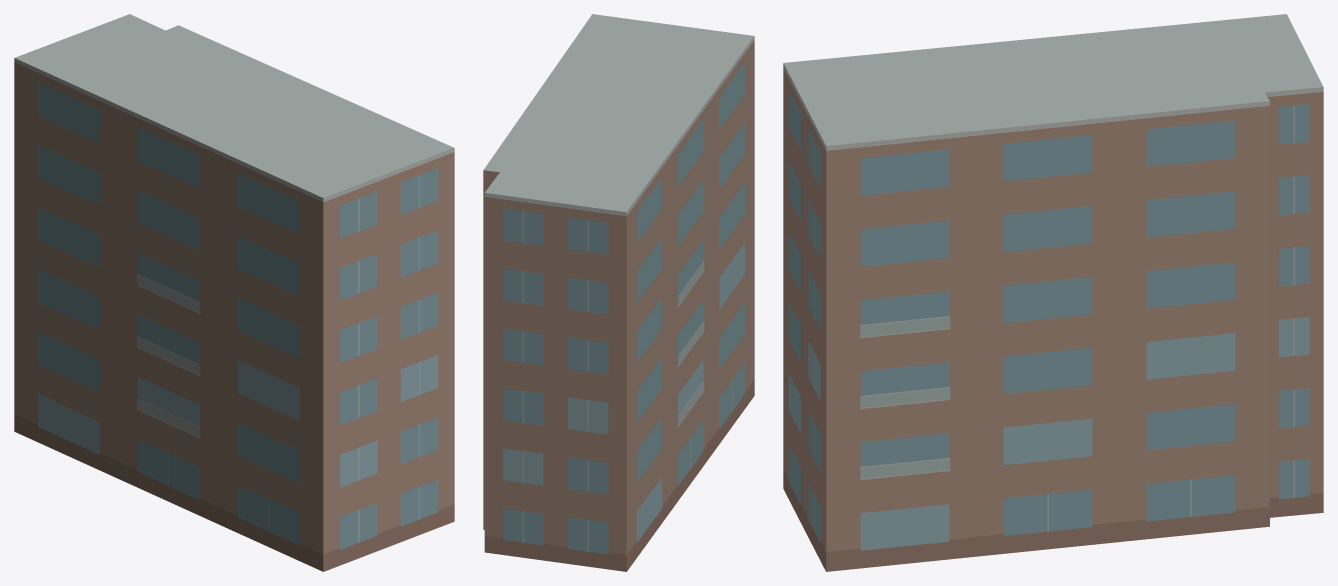
Rendered from survey-upis-32705570.glb.
The picture shows the model from 3 angles, left to right: view 1: azimuth 30°, elevation 25°; view 2: azimuth 150°, elevation 25°; view 3: azimuth 270°, elevation 25°; orthographic projection. The views are drawn at different scales.
Parts seen in each view (by area): view 1: survey-upis-32705570.tmp; view 2: survey-upis-32705570.tmp; view 3: survey-upis-32705570.tmp.
Part boxes in pixels (x1,y1,x2,y2): survey-upis-32705570.tmp: (14, 14, 454, 571); survey-upis-32705570.tmp: (483, 14, 754, 571); survey-upis-32705570.tmp: (783, 14, 1323, 571).
Bounding box in the file's own units: 14.47 × 21.7 × 24.97.
